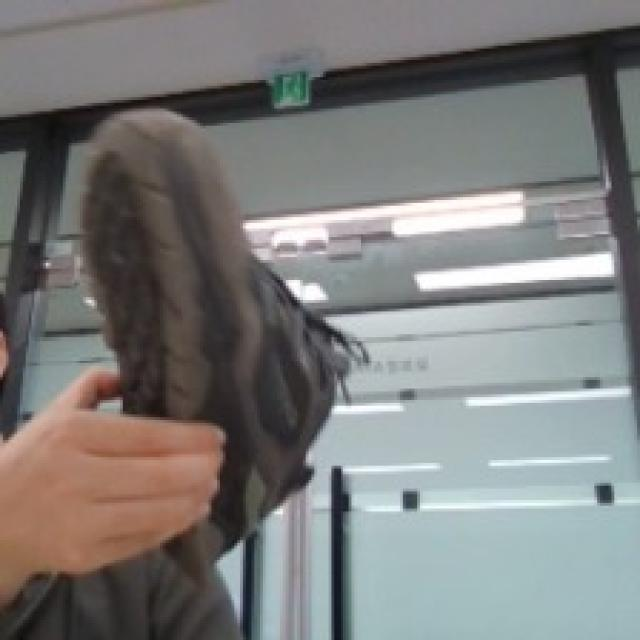shoe: (65, 86, 492, 582)
